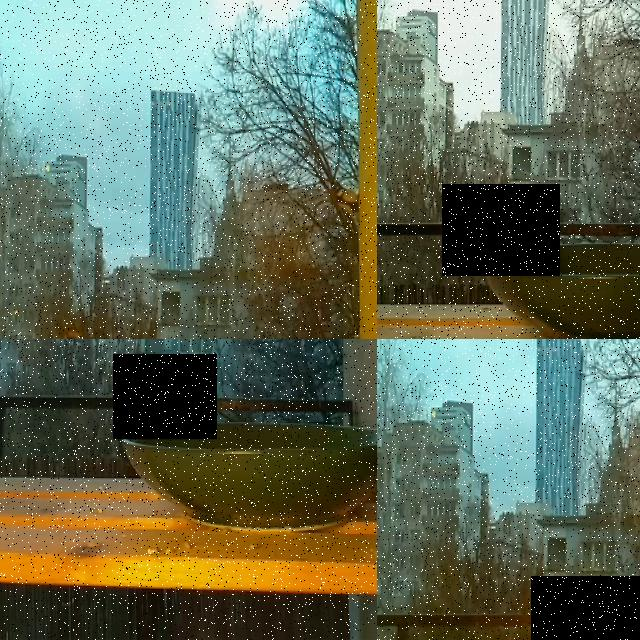Modraszka: (113, 354, 217, 439), (531, 576, 640, 640)
Wrobel: (442, 184, 560, 276)
